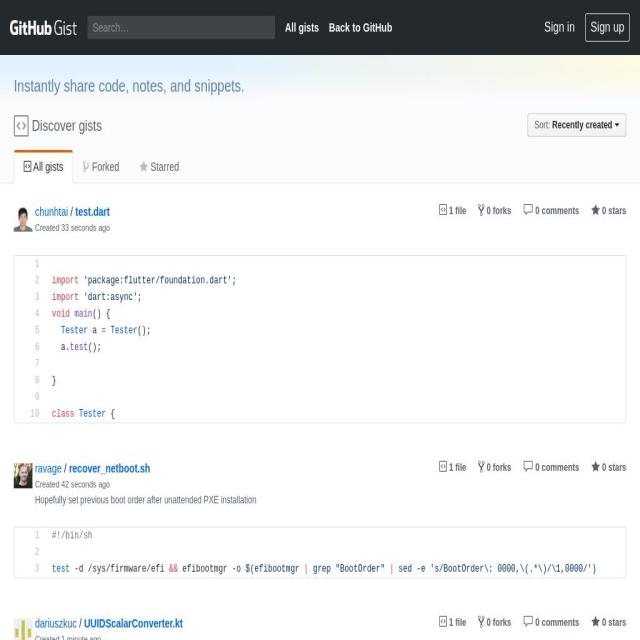button: (527, 113, 626, 137), (14, 150, 74, 183), (129, 150, 189, 183), (73, 150, 129, 183), (584, 13, 630, 42), (328, 18, 392, 37), (284, 18, 320, 37), (544, 18, 575, 38), (13, 206, 32, 236), (13, 464, 32, 494), (13, 618, 32, 640), (0, 0, 10, 40)
field: (87, 16, 275, 39)
heading: (29, 117, 102, 134)
image: (13, 206, 32, 232), (13, 464, 32, 488), (13, 618, 32, 640)
link: (84, 617, 183, 630), (68, 462, 150, 475), (34, 617, 77, 630), (75, 205, 110, 218), (34, 205, 68, 218), (34, 462, 62, 475)
text: (14, 72, 626, 100), (45, 373, 626, 389), (35, 494, 256, 506), (434, 563, 588, 575), (83, 275, 233, 287), (69, 563, 169, 575), (178, 563, 245, 575), (552, 119, 612, 131), (83, 292, 138, 303), (254, 563, 304, 575), (533, 205, 580, 217), (533, 462, 580, 473), (533, 617, 580, 628), (61, 222, 111, 232), (61, 479, 111, 489), (340, 563, 380, 575), (394, 563, 431, 575), (31, 160, 63, 173), (148, 160, 180, 173), (89, 160, 120, 173), (61, 530, 93, 542), (484, 205, 512, 217), (110, 325, 138, 337), (308, 563, 336, 575), (52, 275, 79, 287), (61, 325, 88, 337), (79, 408, 106, 420), (600, 205, 626, 217), (484, 462, 512, 473), (484, 617, 512, 628), (52, 292, 79, 303), (600, 462, 626, 473), (600, 617, 626, 628), (34, 222, 62, 232), (34, 479, 62, 489), (52, 408, 74, 420), (61, 634, 102, 640), (447, 205, 467, 217), (74, 308, 94, 320), (447, 462, 467, 473), (447, 617, 467, 628), (52, 308, 70, 320), (92, 308, 110, 320), (52, 563, 70, 575), (52, 342, 70, 353), (70, 342, 88, 353), (534, 119, 550, 131), (137, 325, 151, 337), (34, 634, 62, 640), (88, 325, 101, 337), (88, 342, 101, 353), (106, 408, 116, 420), (169, 563, 179, 575), (51, 530, 60, 542), (245, 563, 254, 575), (68, 205, 76, 218), (61, 462, 69, 475), (76, 617, 84, 630), (232, 275, 237, 287), (304, 563, 309, 575), (335, 563, 340, 575), (380, 563, 385, 575), (592, 563, 597, 575), (137, 292, 142, 303), (102, 325, 106, 337), (390, 563, 394, 575), (430, 563, 434, 575), (588, 563, 592, 575)
